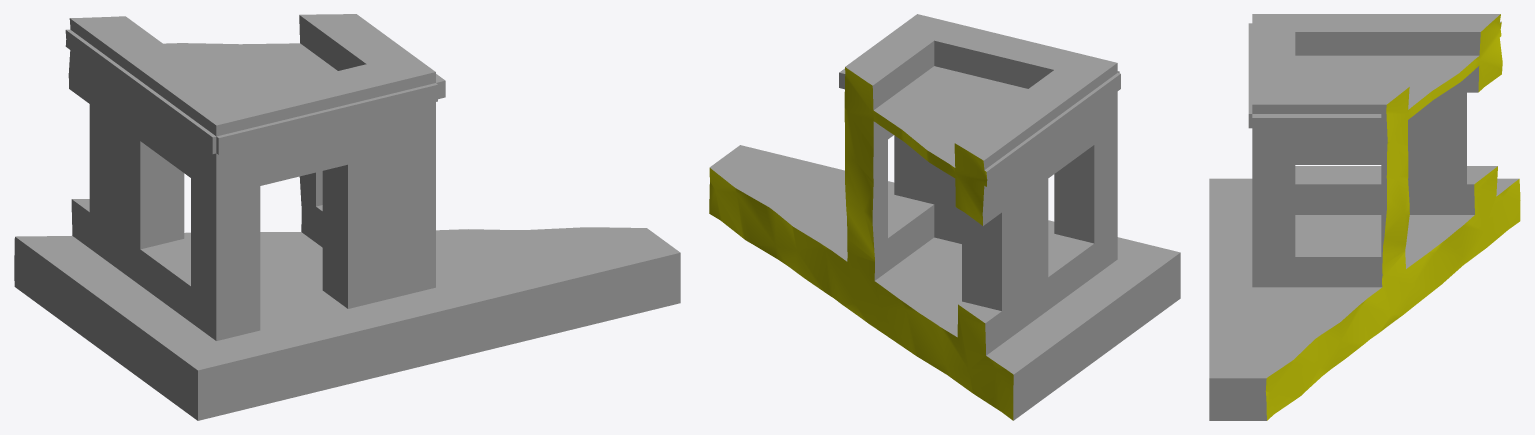
File: A_Shatter_01.fbx
The picture shows the model from 3 angles, left to right: view 1: azimuth 30°, elevation 25°; view 2: azimuth 150°, elevation 25°; view 3: azimuth 270°, elevation 25°; orthographic projection. The views are drawn at different scales.
Visible parts, largest first — view 1: shard1; view 2: shard1; view 3: shard1.
Part boxes in pixels (x1=…): shard1: x1=14, y1=14, x2=680, y2=420; shard1: x1=709, y1=14, x2=1180, y2=420; shard1: x1=1209, y1=14, x2=1520, y2=420.
Size of the model in its own units: 10 by 5.27 by 6.59.
